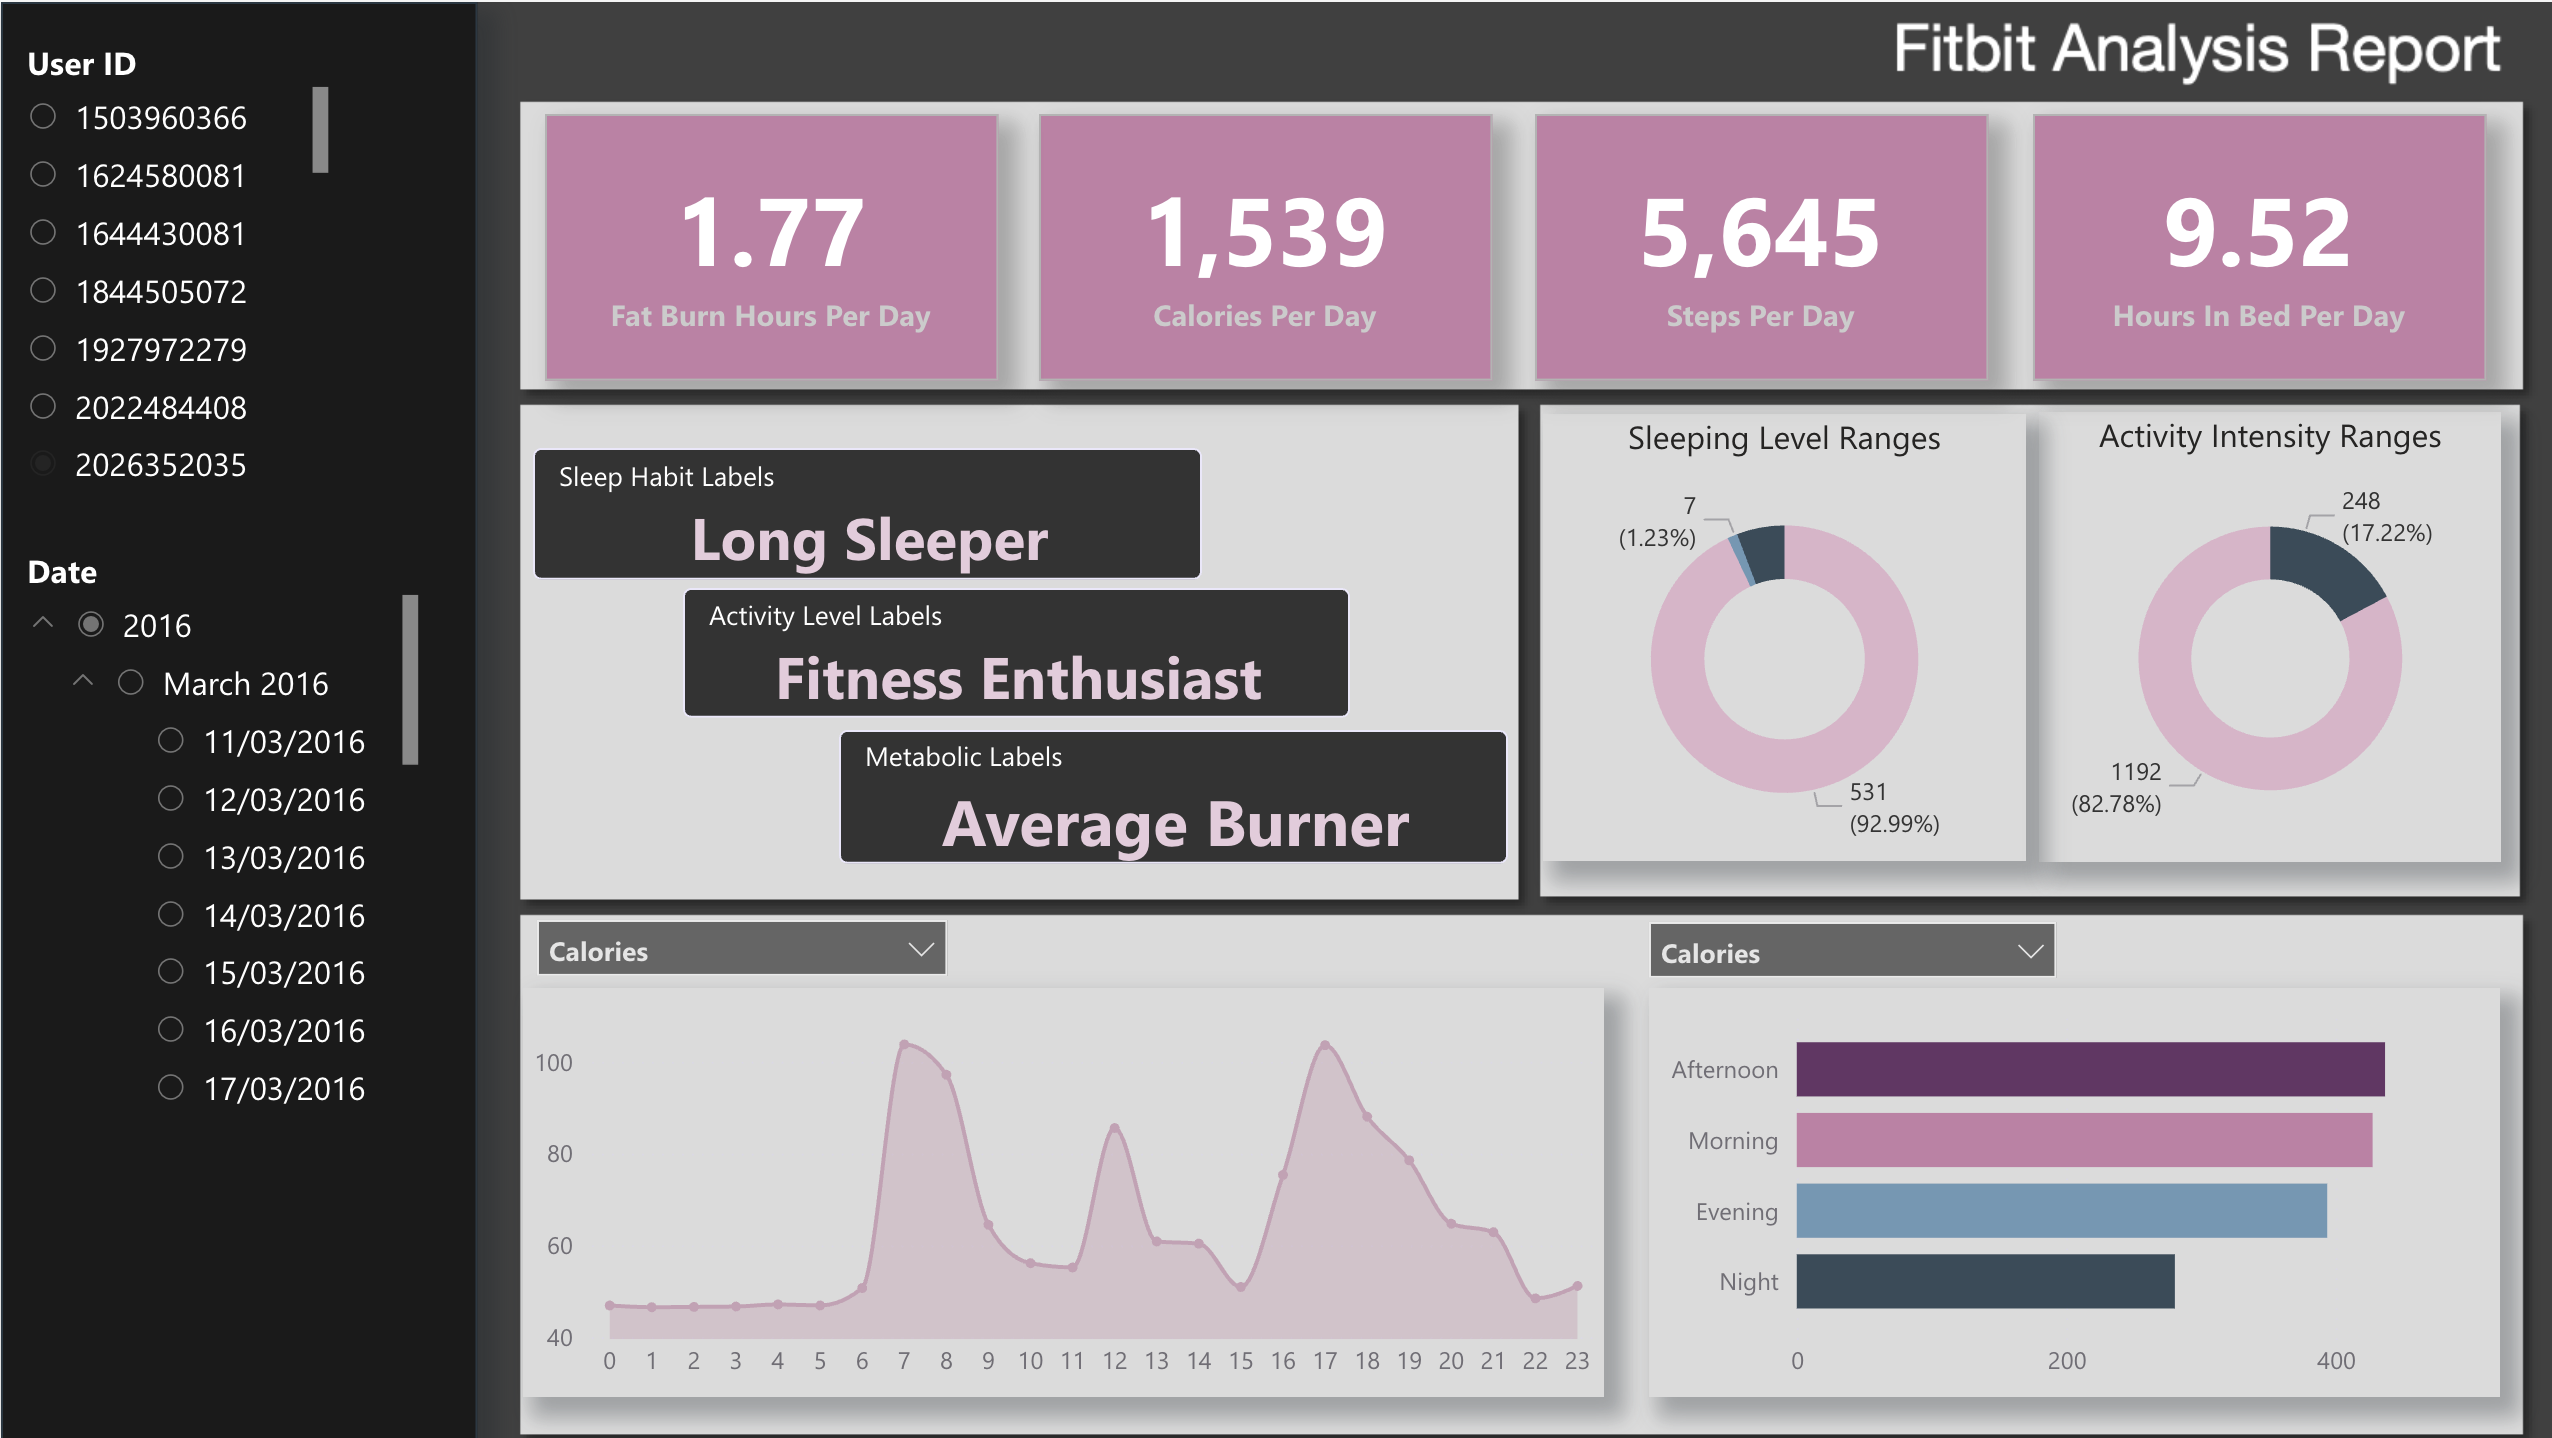

Layout of this report page (visuals, bound fields, positions):
{"tool":"powerbi","page":{"name":"Page 1","canvas":[1280,720],"ordinal":0},"visuals":[{"type":"cardVisual","fields":{"Data":["Measure Table.Avg Calories Per Day"]},"box":[519.9,56.3,226.9,133.6],"z":0,"group":"g1"},{"type":"cardVisual","fields":{"Data":["Measure Table.Sleep Habit Labels"]},"box":[249.6,206.1,369.1,100.6],"z":0,"group":"g2"},{"type":"shape","box":[0,0,238.6,798.6],"z":1000},{"type":"cardVisual","fields":{"Data":["Measure Table.Avg Fat Burn Hour Per Day"]},"box":[272.5,56.3,226.9,133.6],"z":1000,"group":"g1"},{"type":"cardVisual","fields":{"Data":["Measure Table.Metabolic Labels"]},"box":[403.2,347.5,369.1,101.7],"z":1000,"group":"g2"},{"type":"slicer","fields":{"Values":["user_list.user_id"]},"box":[0,13.9,168.8,241.5],"z":2000},{"type":"cardVisual","fields":{"Data":["Measure Table.Avg Steps Per Day"]},"box":[768.6,56.3,226.9,133.6],"z":2000,"group":"g1"},{"type":"cardVisual","fields":{"Data":["Measure Table.Activity Level Labels"]},"box":[325.2,276.6,368.6,99.8],"z":2000,"group":"g2"},{"type":"cardVisual","fields":{"Data":["Measure Table.Avg In Bed Hour Per Day"]},"box":[1017.4,56.3,226.9,133.6],"z":3000,"group":"g1"},{"type":"slicer","fields":{"Values":["Date_Table.Date Hierarchy.Year","Date_Table.Date Hierarchy.StartOfMonth","Date_Table.Date Hierarchy.Date"]},"box":[0,268.8,213.8,302.1],"z":3000},{"type":"group","id":"g1","title":"Group 1","box":[272.5,56.3,971.5,133.1],"z":4000},{"type":"areaChart","fields":{"Y":["Measure Table.Avg Calories Per Day"],"Category":["Time_Table.Time Hierarchy.Hour","Time_Table.Time Hierarchy.Minute"]},"box":[261.1,494.1,541.4,204.8],"z":5000},{"type":"slicer","fields":{"Values":["Fitness Metric Selection.Fitness Metric Selection"]},"box":[258.6,449.3,225.3,58.9],"z":6000},{"type":"donutChart","title":"Activity Intensity Ranges","fields":{"Y":["Measure Table.Avg Fairly Min Per Day","Measure Table.Avg Lightly Min Per day","Measure Table.Avg Sedentary Min Per day","Measure Table.Avg Very Min Per Day"]},"box":[1020.2,204.8,231.7,225.3],"z":7000},{"type":"donutChart","title":"Sleeping Level Ranges","fields":{"Y":["Measure Table.Avg Asleep Min Per Day","Measure Table.Avg Awake Min Per Day","Measure Table.Avg Restless Min Per Day"]},"box":[771.8,206.1,241.9,224],"z":8000},{"type":"group","id":"g2","title":"Group 2","box":[249.6,206.1,524.8,243.2],"z":9000},{"type":"clusteredBarChart","fields":{"Y":["Measure Table.Avg Calories Per Day"],"Category":["Time_Table.TimeRange"]},"box":[825.6,494.1,426.2,204.8],"z":10000},{"type":"slicer","fields":{"Values":["Fitness TimeRange Metrics Selection.Fitness TimeRange Metrics Selection"]},"box":[815.4,450.6,224,57.6],"z":11000}]}

Visuals, with their boxes in screenshot pixels (x1, y1, x2, y2), scaled from the page's 1280x720 canvas onto the 2552x1438 screenshot:
cardVisual - Measure Table.Avg Calories Per Day: (1037,112,1489,379)
cardVisual - Measure Table.Sleep Habit Labels: (498,412,1234,613)
shape: (0,0,476,1437)
cardVisual - Measure Table.Avg Fat Burn Hour Per Day: (543,112,996,379)
cardVisual - Measure Table.Metabolic Labels: (804,694,1540,897)
slicer - user_list.user_id: (0,28,337,510)
cardVisual - Measure Table.Avg Steps Per Day: (1532,112,1985,379)
cardVisual - Measure Table.Activity Level Labels: (648,552,1383,752)
cardVisual - Measure Table.Avg In Bed Hour Per Day: (2028,112,2481,379)
slicer - Date_Table.Date Hierarchy.Year x Date_Table.Date Hierarchy.StartOfMonth: (0,537,426,1140)
"Group 1" group: (543,112,2480,378)
areaChart - Measure Table.Avg Calories Per Day x Time_Table.Time Hierarchy.Hour: (521,987,1600,1396)
slicer - Fitness Metric Selection.Fitness Metric Selection: (516,897,965,1015)
"Activity Intensity Ranges" donutChart: (2034,409,2496,859)
"Sleeping Level Ranges" donutChart: (1539,412,2021,859)
"Group 2" group: (498,412,1544,897)
clusteredBarChart - Measure Table.Avg Calories Per Day x Time_Table.TimeRange: (1646,987,2496,1396)
slicer - Fitness TimeRange Metrics Selection.Fitness TimeRange Metrics Selection: (1626,900,2072,1015)
